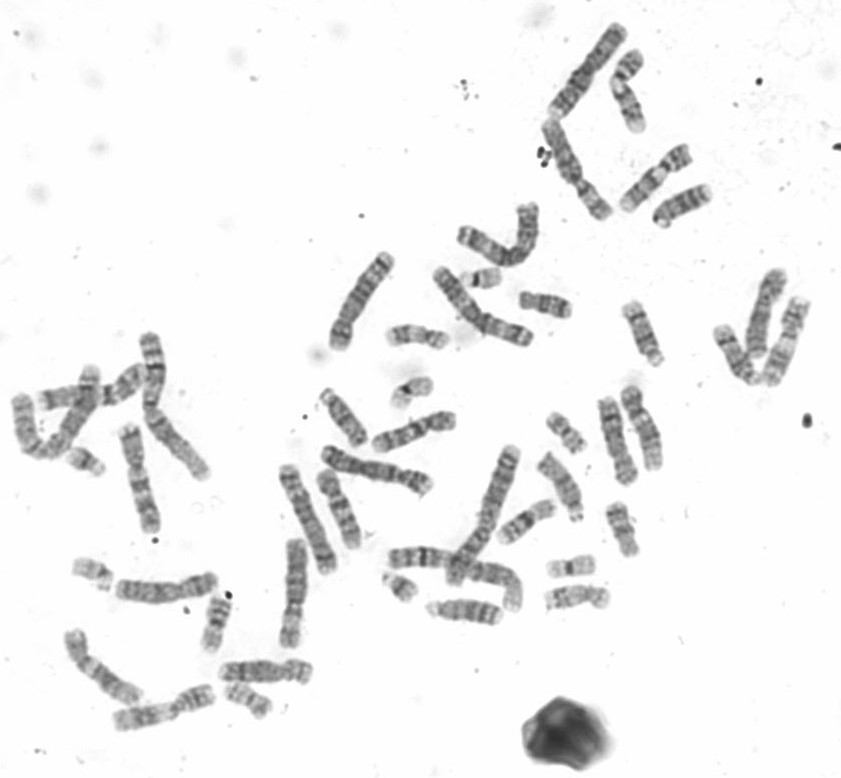A1: (134, 326, 216, 486), (385, 540, 528, 618)
A2: (440, 439, 526, 590), (7, 357, 104, 465)
A3: (426, 260, 538, 351), (451, 196, 543, 270)
B4: (542, 17, 630, 124), (315, 439, 437, 500)
B5: (323, 244, 398, 354), (275, 460, 340, 578)
C10: (366, 405, 461, 457), (311, 463, 365, 553)
C11: (106, 678, 217, 736), (758, 292, 814, 389)
C12: (57, 624, 146, 708), (616, 379, 667, 475)
C6: (536, 113, 617, 223), (272, 533, 311, 652)
C7: (33, 357, 152, 415), (113, 418, 166, 536)
C8: (592, 391, 642, 490), (214, 654, 318, 688)
C9: (614, 139, 698, 216), (605, 44, 651, 137)
D13: (648, 178, 716, 231), (421, 595, 507, 629)
D14: (617, 295, 668, 371), (708, 319, 764, 388)
D15: (533, 447, 589, 528), (315, 383, 371, 452)
E16: (491, 494, 560, 549), (196, 591, 234, 655)
E17: (382, 319, 454, 355), (542, 579, 614, 615)
E18: (602, 496, 643, 561), (514, 286, 578, 323)
F19: (385, 372, 437, 412), (541, 549, 601, 582)
F20: (541, 405, 592, 458), (221, 676, 276, 721)
G21: (61, 441, 111, 481), (377, 566, 421, 606)
G22: (68, 552, 116, 595), (455, 262, 507, 292)
X: (740, 262, 791, 360), (110, 566, 221, 607)
